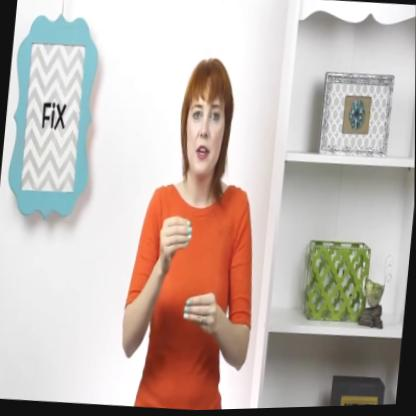Fix: (144, 199, 237, 360)
